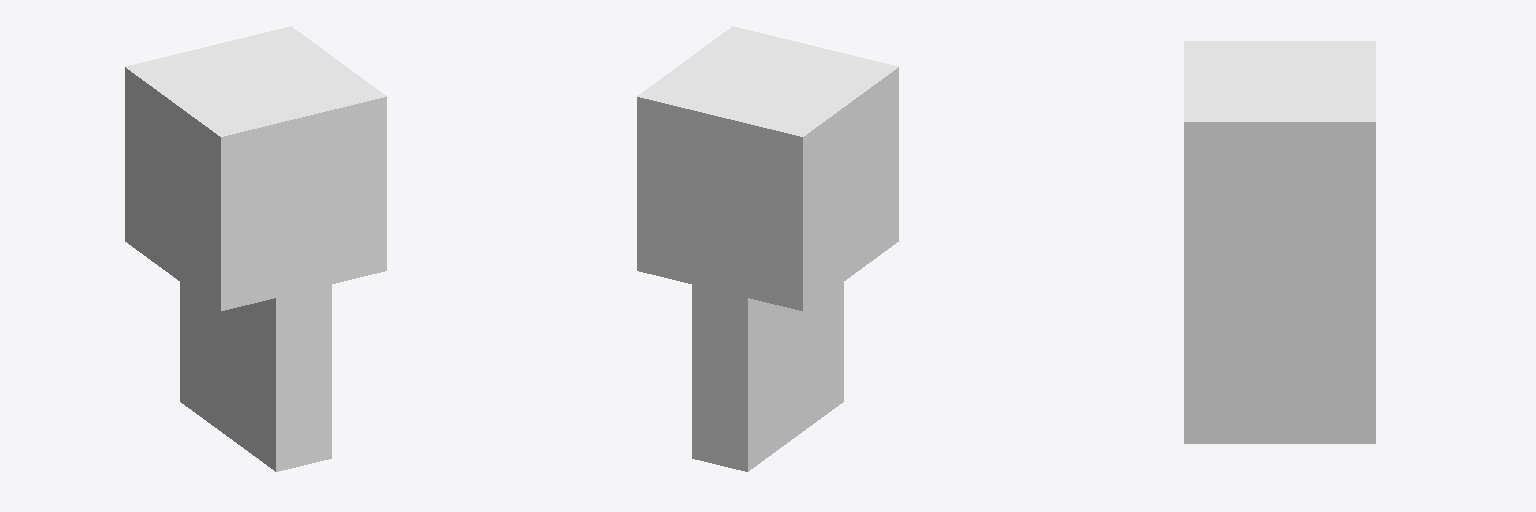
Rendered from headandtorso.vox.obj.
The picture shows the model from 3 angles: view 1: azimuth 30°, elevation 25°; view 2: azimuth 150°, elevation 25°; view 3: azimuth 270°, elevation 25°; orthographic projection.
Parts seen in each view (by area): view 1: object 1; view 2: object 1; view 3: object 1.
Part boxes in pixels (x1,y1,x2,y2): object 1: (125, 26, 386, 471); object 1: (637, 26, 898, 471); object 1: (1184, 41, 1375, 443).
Size of the model in its own units: 0.3 by 0.6 by 0.3.